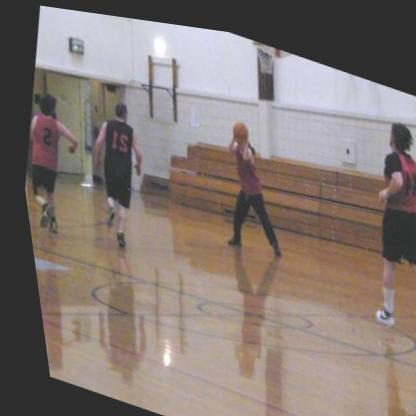basketball: (226, 111, 248, 138)
